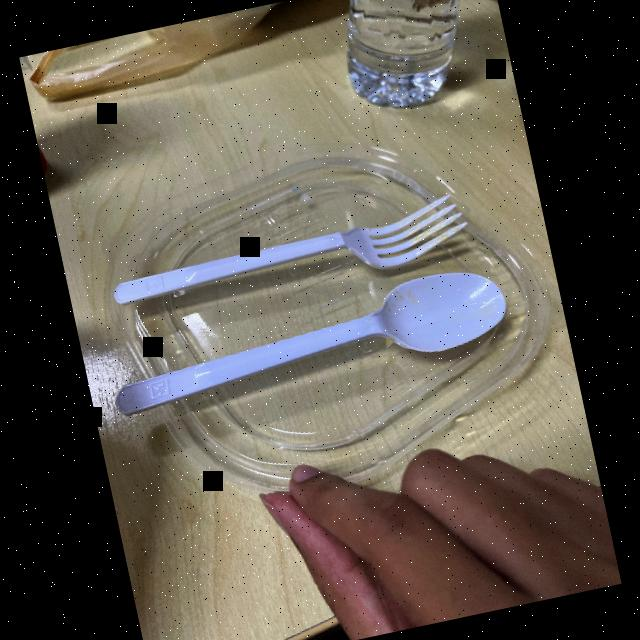plastic_cultery: (96, 248, 532, 448), (107, 180, 468, 328)
